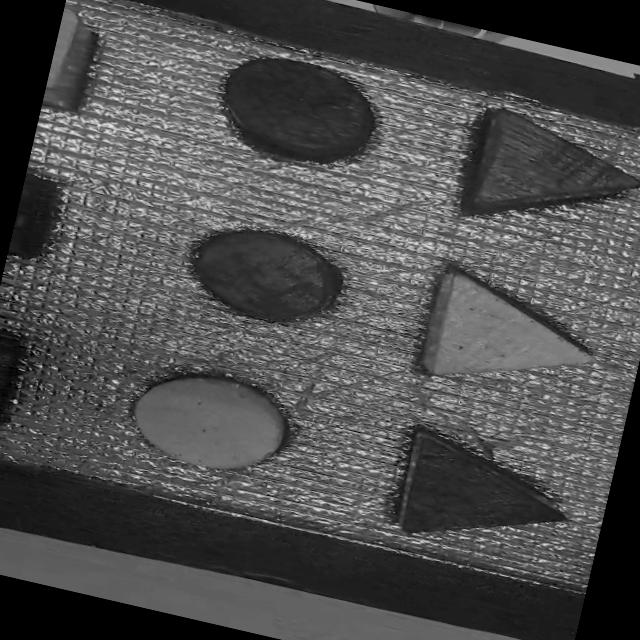bcircle: (184, 38, 398, 185)
btriangle: (352, 412, 592, 572)
rcircle: (136, 190, 386, 362)
rtriangle: (425, 89, 640, 253)
ycircle: (109, 349, 304, 488)
ytriangle: (395, 252, 613, 417)
